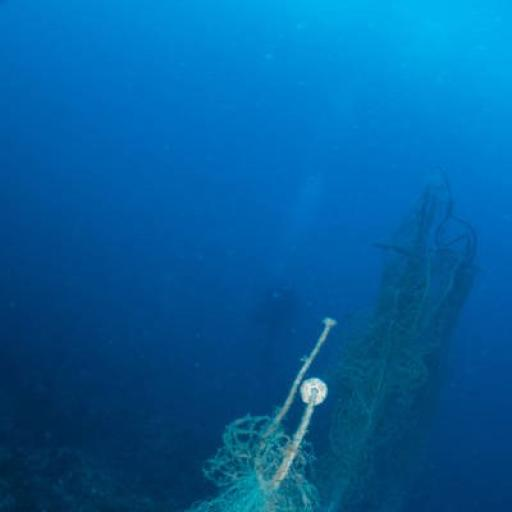net: (346, 174, 466, 448), (212, 380, 320, 512)
